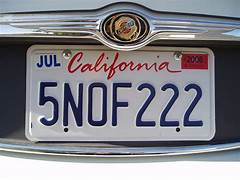number_plate: (31, 48, 211, 139)
